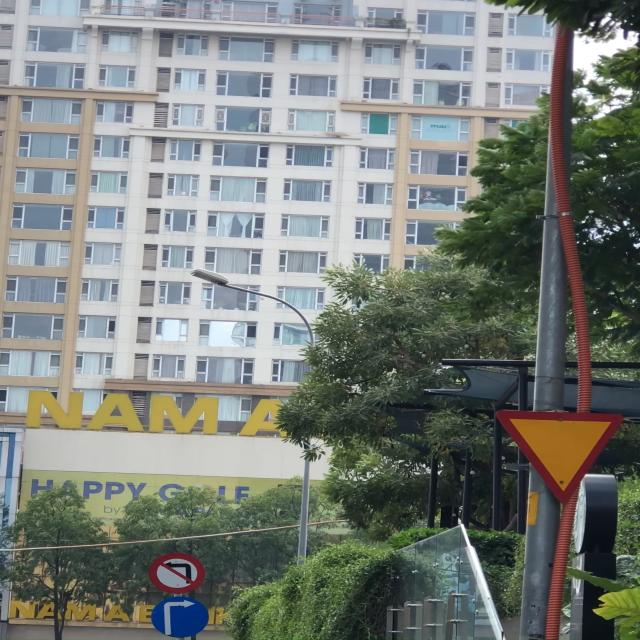Bien bao cam re trai: (146, 550, 207, 595)
Bien bao giao nhau voi duong uu tien: (486, 404, 624, 504)
Bien bao huong di phai theo: (151, 593, 212, 640)
